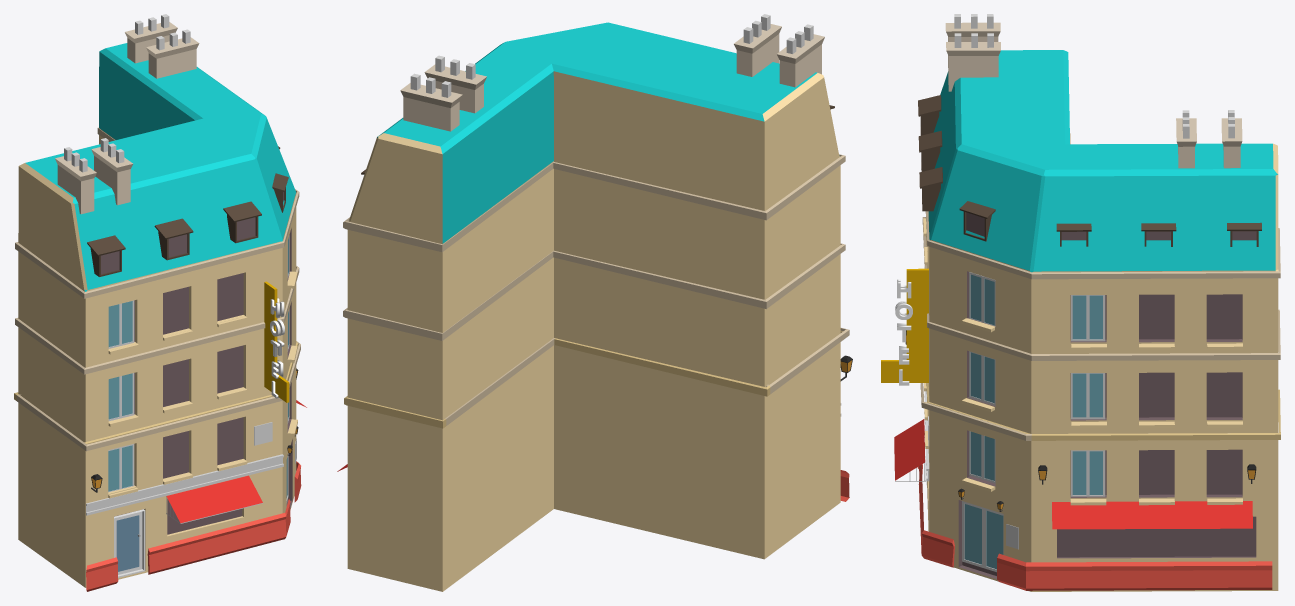
The model's file is Hotel_tran.glb.
3 views of the same model, side by side, from view 1: azimuth 30°, elevation 25°; view 2: azimuth 150°, elevation 25°; view 3: azimuth 270°, elevation 25° (orthographic). The views are drawn at different scales.
Parts seen in each view (by area): view 1: Cube.1856, Cube.1900, Plane.1815, Cube.1863, Cube.1866, Cube.1897, Cube.1899, Cube.1898, Door_9.007, Cube.1887, Cube.1875, Cube.1873 (+8 smaller); view 2: Cube.1856, Cube.1897, Cube.1898, Cube.1901, Cube.1876, Cube.1899, Cube.1874, Cube.1873, Cube.1875; view 3: Cube.1856, Cube.1900, Cube.1864, Plane.1814, Plane.1816, Cube.1898, Cube.048, Cube.1897, Plane.1862, Cube.1888, Cube.1901, Cube.1874 (+12 smaller).
Boxes of the visible parts, box(x1,y1,x2,y2) form: Cube.1856: box(18, 43, 296, 587); Cube.1900: box(86, 461, 301, 591); Plane.1815: box(108, 300, 134, 492); Cube.1863: box(166, 475, 262, 523); Cube.1866: box(86, 454, 283, 515); Cube.1897: box(15, 127, 299, 298); Cube.1899: box(16, 342, 300, 451); Cube.1898: box(15, 266, 299, 374); Door_9.007: box(114, 509, 145, 577); Cube.1887: box(108, 316, 247, 498); Cube.1875: box(146, 37, 199, 78); Cube.1873: box(55, 156, 96, 214); Cube.1856: box(347, 22, 840, 591); Cube.1897: box(343, 154, 845, 252); Cube.1898: box(343, 243, 845, 340); Cube.1901: box(344, 331, 842, 428); Cube.1876: box(400, 83, 462, 131); Cube.1899: box(445, 328, 849, 425); Cube.1874: box(734, 24, 781, 76); Cube.1873: box(776, 34, 824, 87); Cube.1875: box(424, 64, 486, 113); Cube.1856: box(926, 50, 1278, 591); Cube.1900: box(917, 464, 1272, 590); Cube.1864: box(1052, 501, 1252, 529); Plane.1814: box(1071, 295, 1105, 496); Plane.1816: box(969, 272, 995, 483); Cube.1898: box(922, 217, 1280, 360); Cube.048: box(881, 268, 928, 382); Cube.1897: box(925, 133, 1280, 279); Plane.1862: box(962, 501, 1003, 572); Cube.1888: box(1070, 343, 1242, 505); Cube.1901: box(926, 383, 1280, 440); Cube.1874: box(946, 42, 1000, 91).
Bounding box in the file's own units: 0.4182 × 0.5824 × 0.4708.
